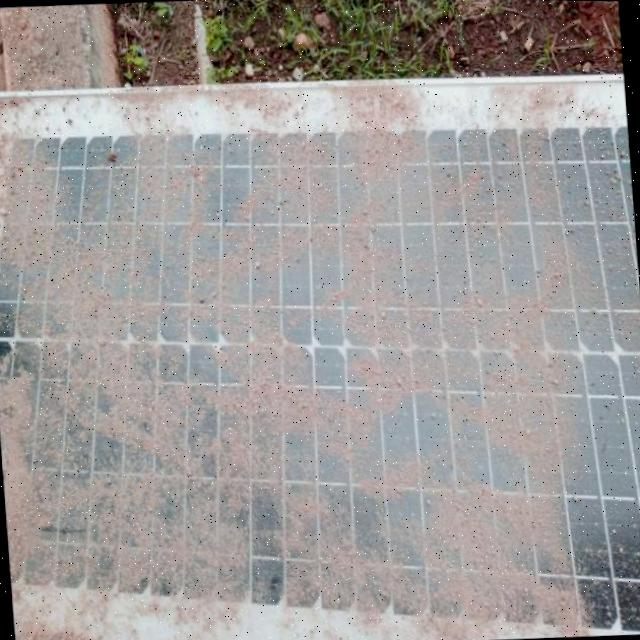Surface Contaminant: (0, 90, 640, 640)
